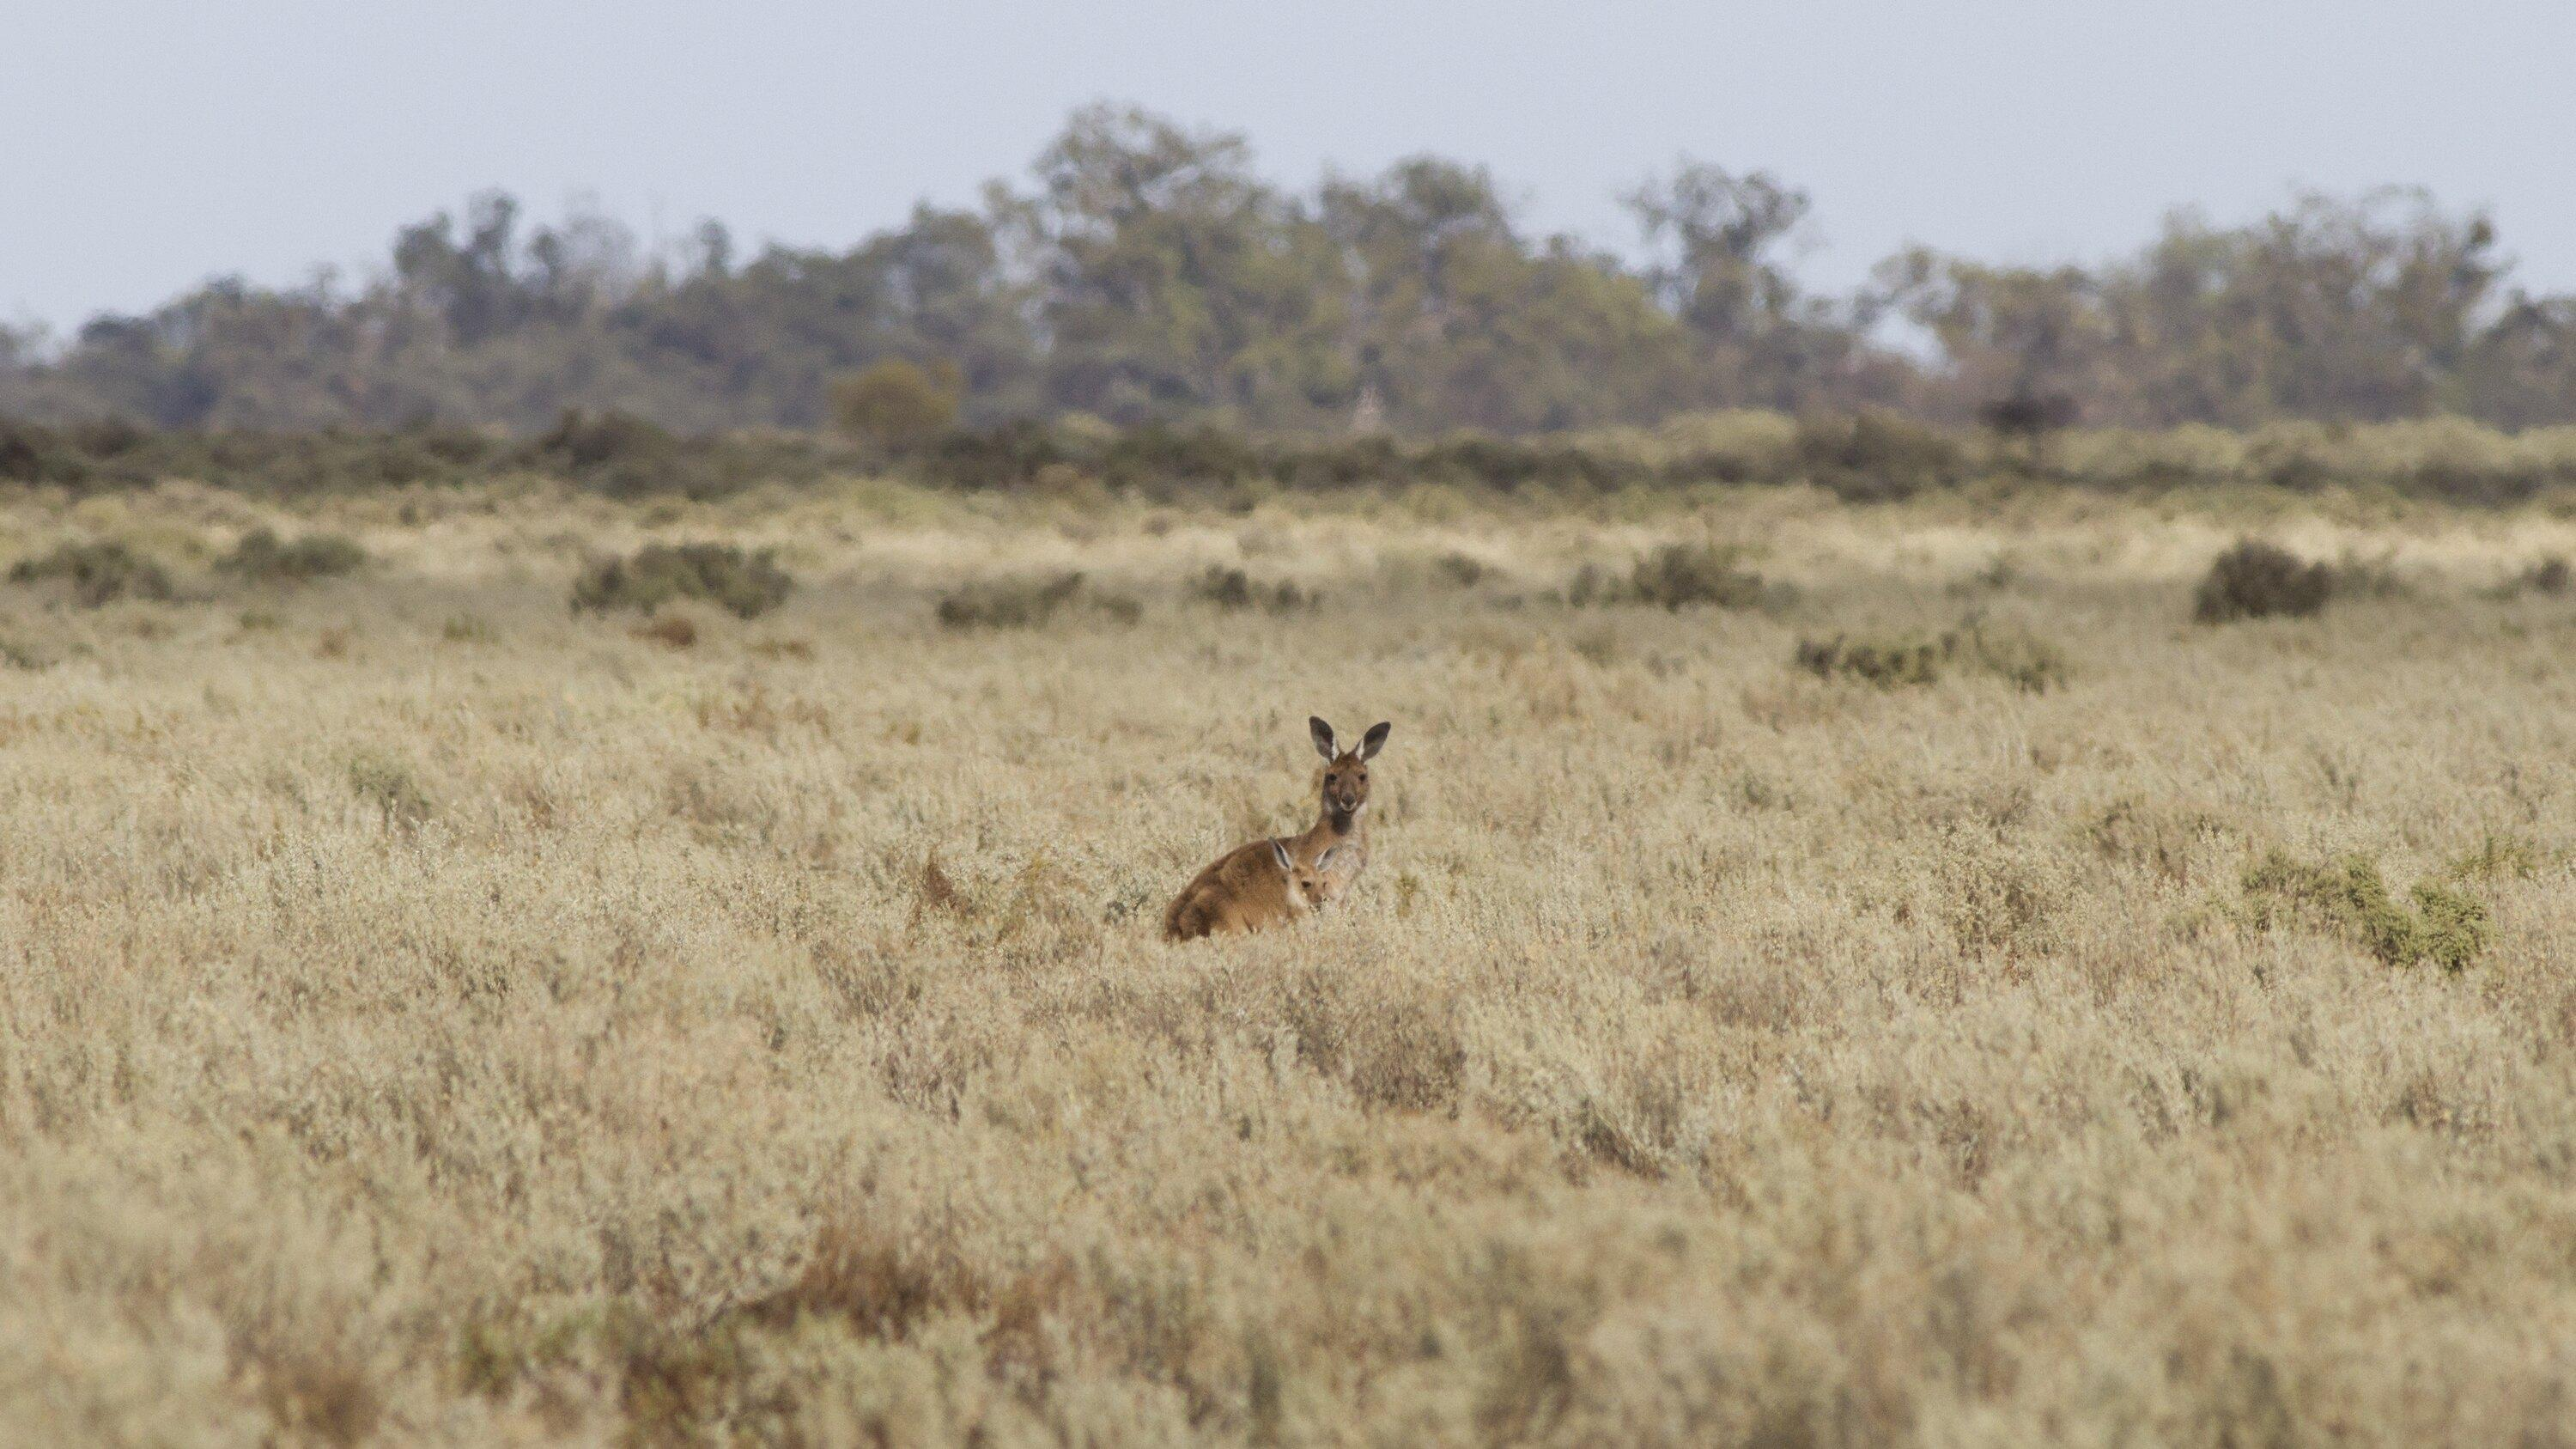Red kangaroo: (1152, 709, 1389, 954)
